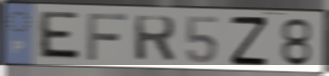5: (185, 15, 220, 65)
8: (278, 17, 313, 68)
E: (36, 9, 83, 63)
F: (86, 11, 130, 62)
R: (132, 14, 178, 64)
Z: (229, 15, 269, 67)
